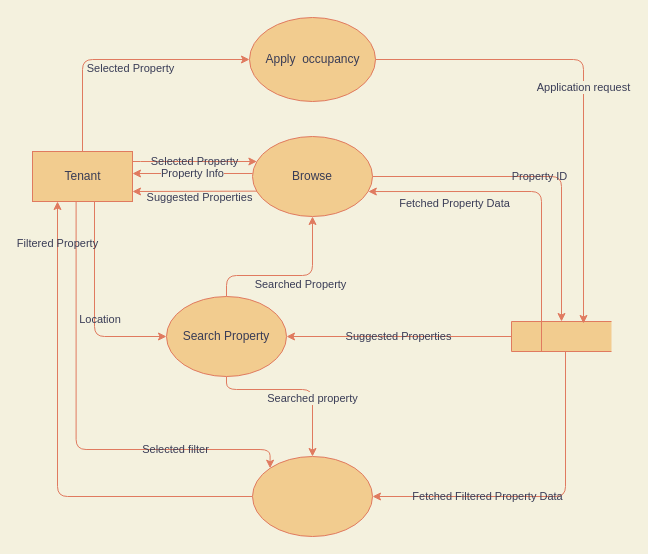
This 648x554 diagram has some shape labels left out. Here are the shapes that lost their labels. From the top down, the box of each, then its label:
(510, 320, 612, 352): TBL PROPERTY
(252, 456, 372, 536): Filter Property
